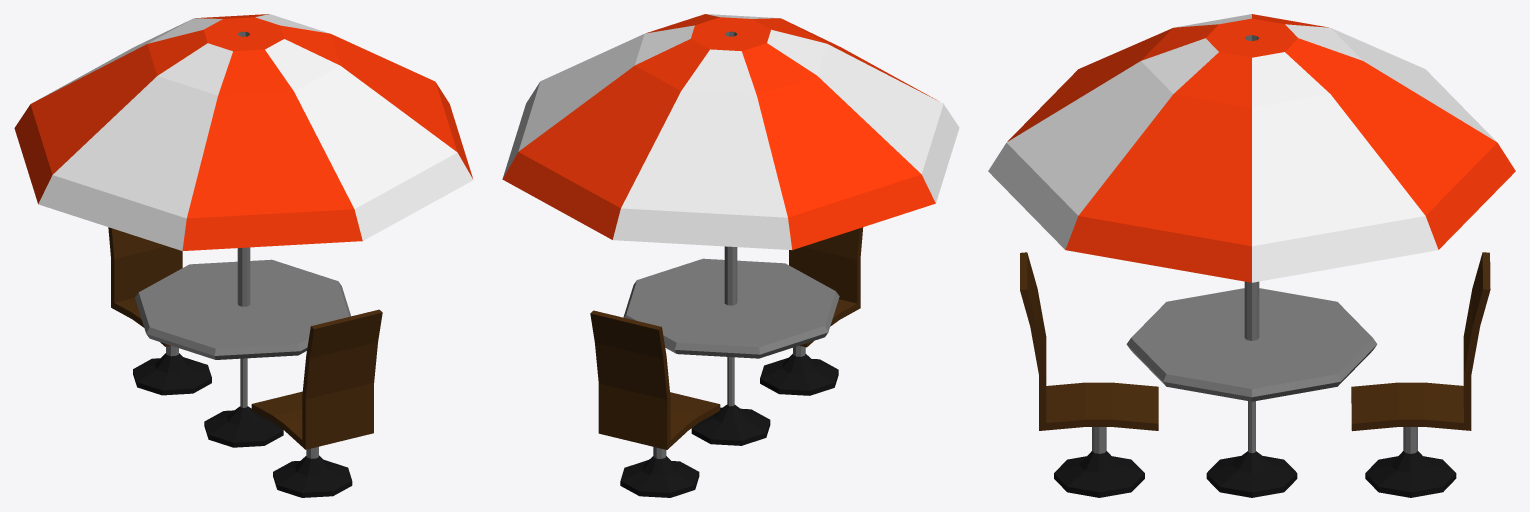
The model's file is Chairs.fbx.
3 views of the same model, side by side, from view 1: azimuth 30°, elevation 25°; view 2: azimuth 150°, elevation 25°; view 3: azimuth 270°, elevation 25° (orthographic). The views are drawn at different scales.
Visible parts, largest first — view 1: Chairs; view 2: Chairs; view 3: Chairs.
Boxes of the visible parts, bbox=[...] form: Chairs: bbox=[14, 14, 473, 497]; Chairs: bbox=[502, 14, 959, 497]; Chairs: bbox=[988, 14, 1515, 497].
Size of the model in its own units: 3.18 by 2.93 by 3.18.
